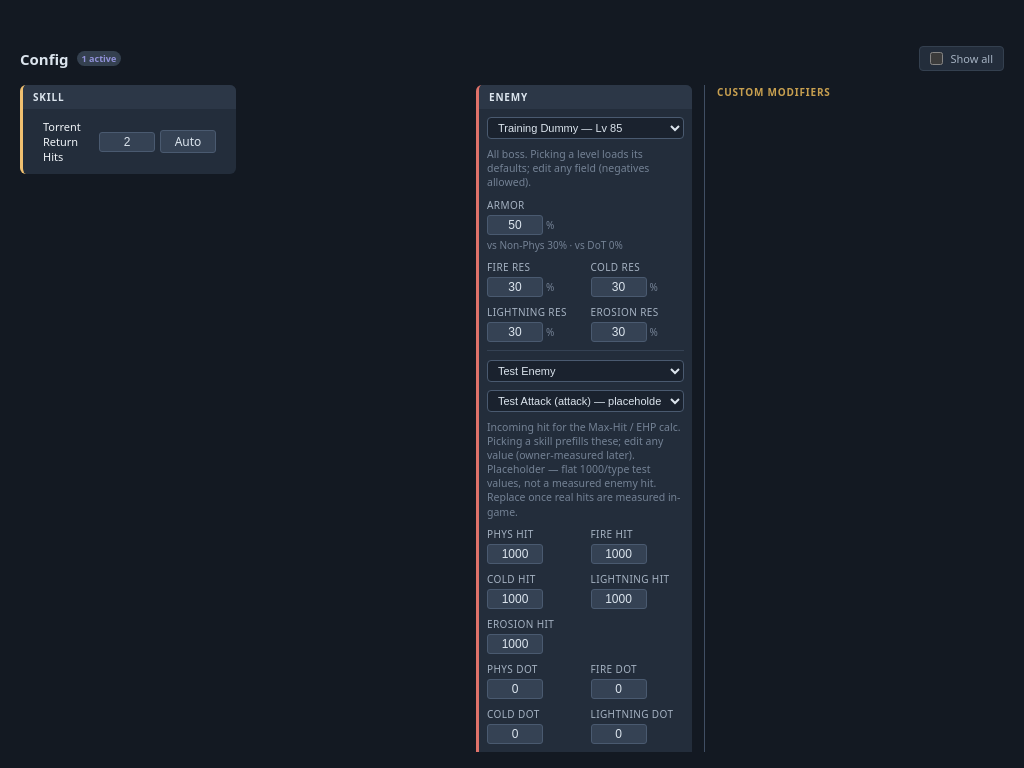
Test case: Inverted Blaze Config automatic returns › displays and stores a fractional return-hit override as a whole count
Replace the text in the number field with "2.9" at {"x": 127, "y": 142}, box [99,132,155,152]
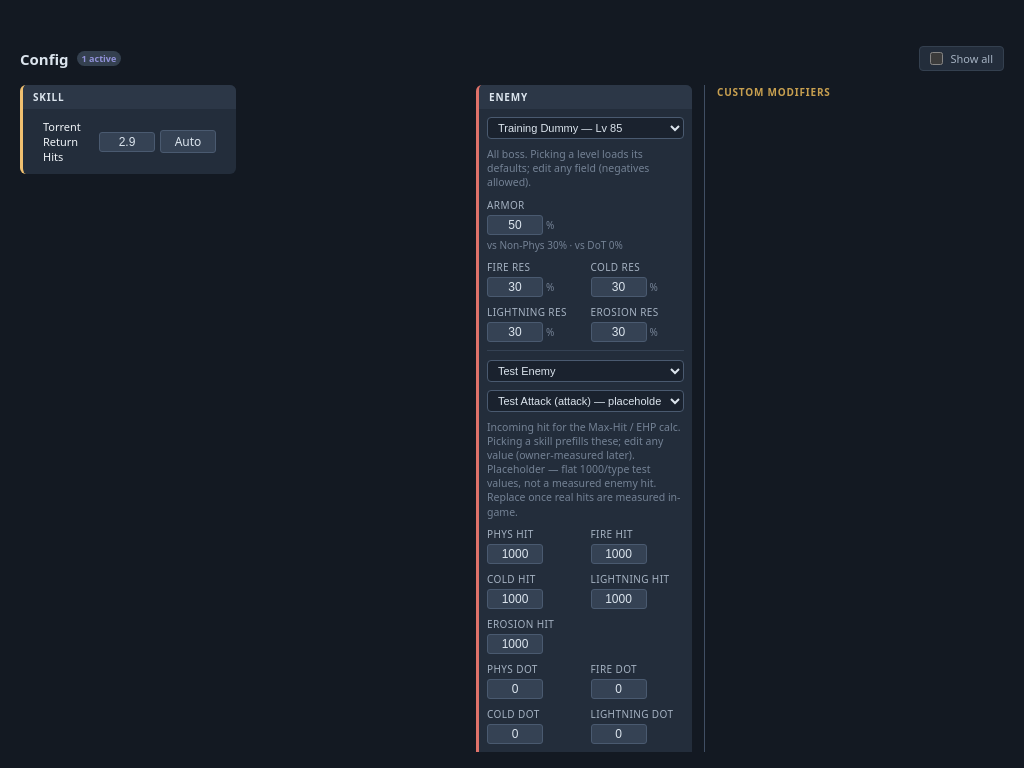
Leave the number field, box [99,132,155,152]
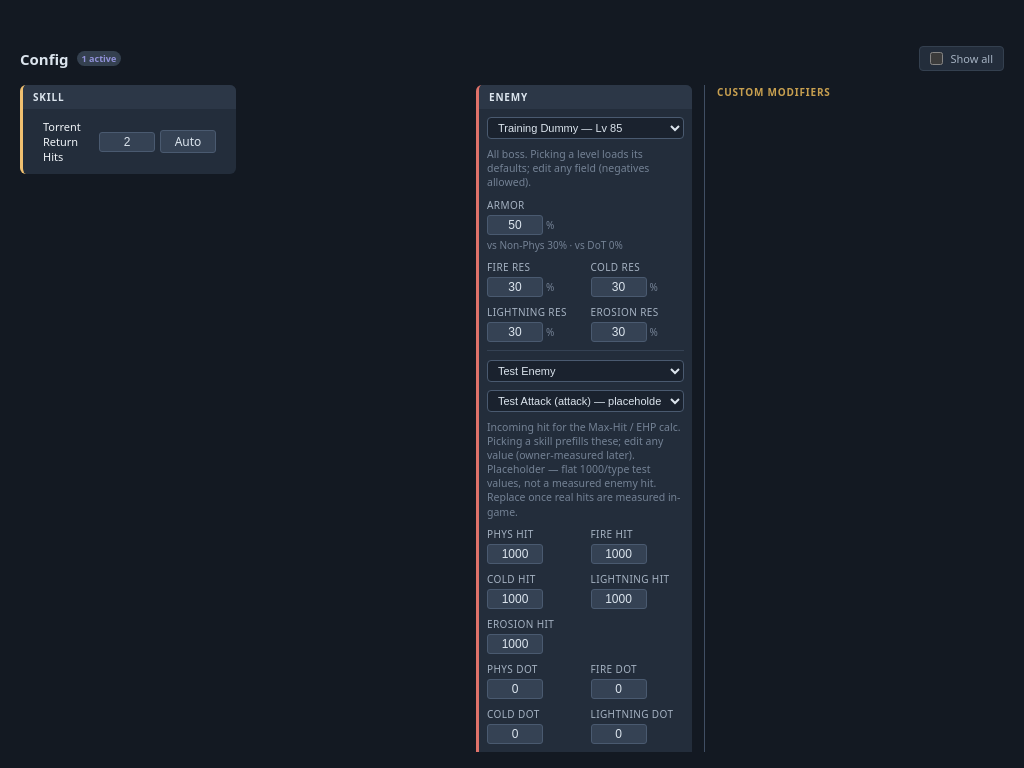
Check: the number field holds "2", box [99,132,155,152]
